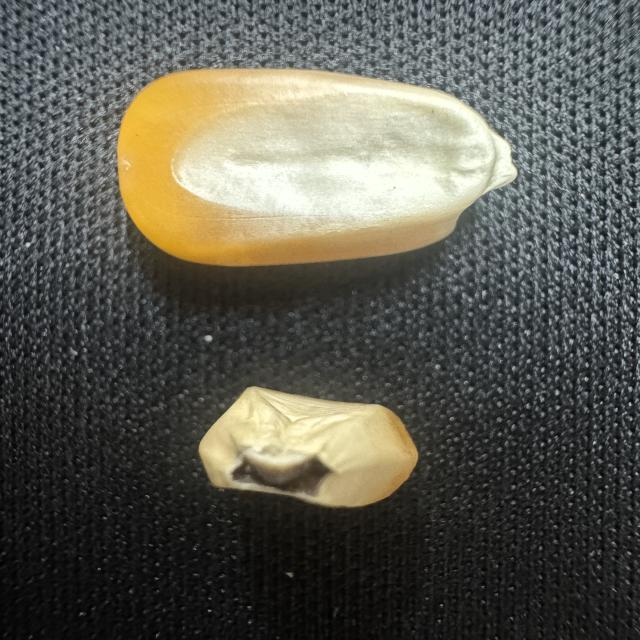Bad-Seed: (193, 383, 423, 518)
Good-Seed: (112, 62, 526, 281)
